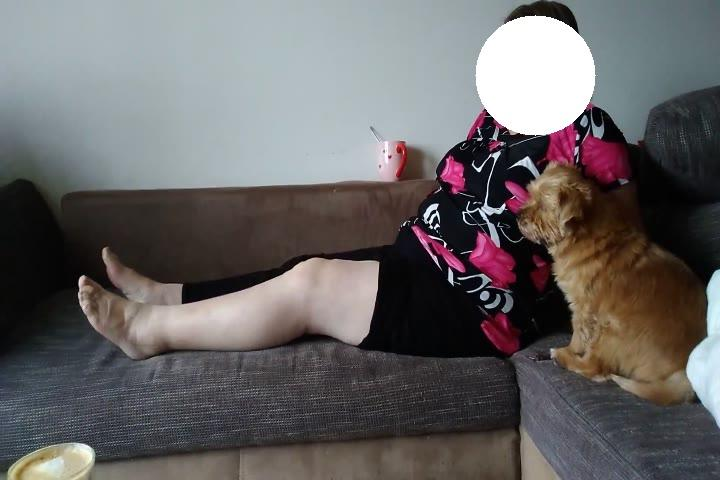lower_body: (70, 237, 519, 369)
